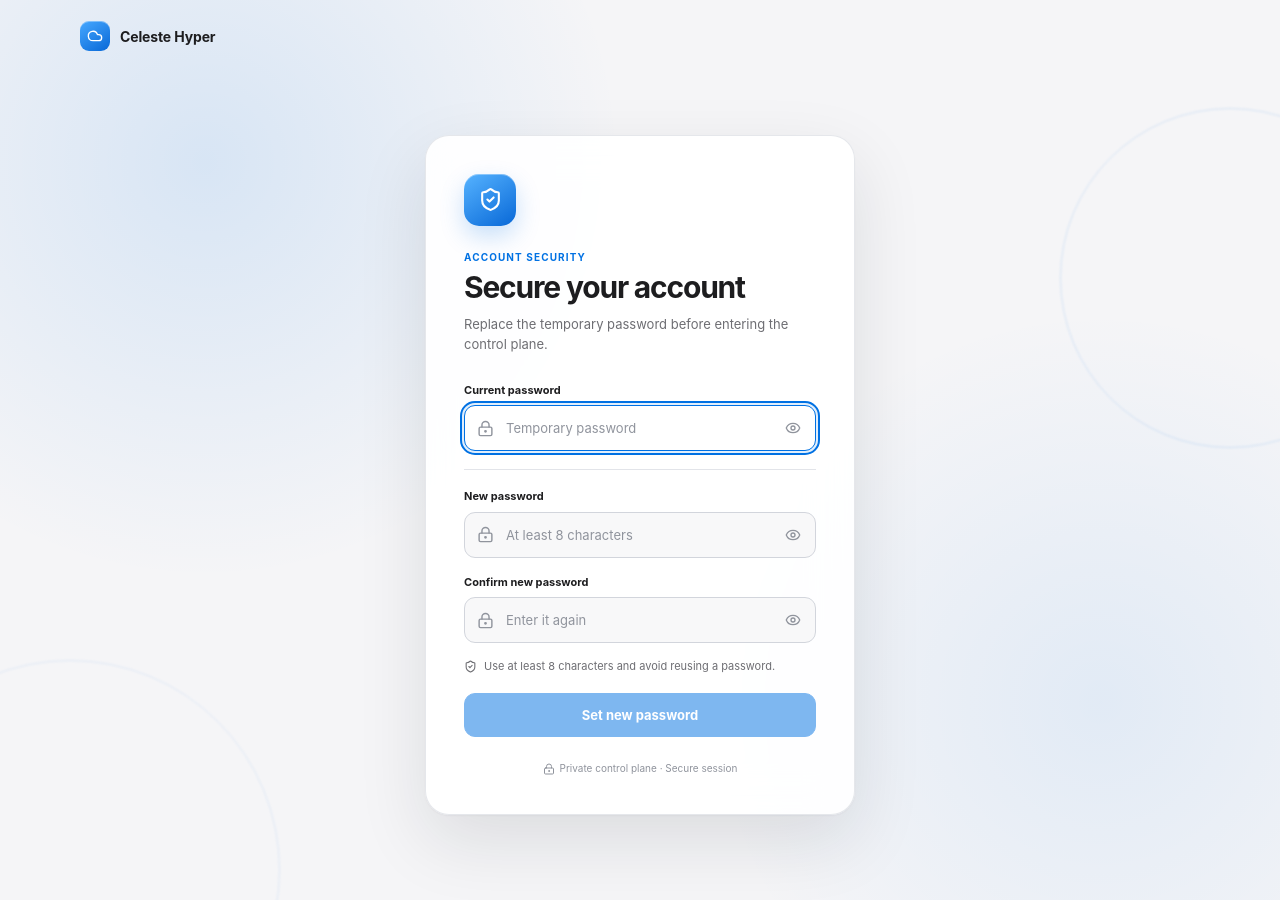
Test: ChangePassword › shows the error when the change is rejected
The image size is (1280, 900).
Type "wrong" into the password field labelled "Current password".
click(640, 428); type("wrong")  # box x1=464 y1=405 x2=816 y2=451
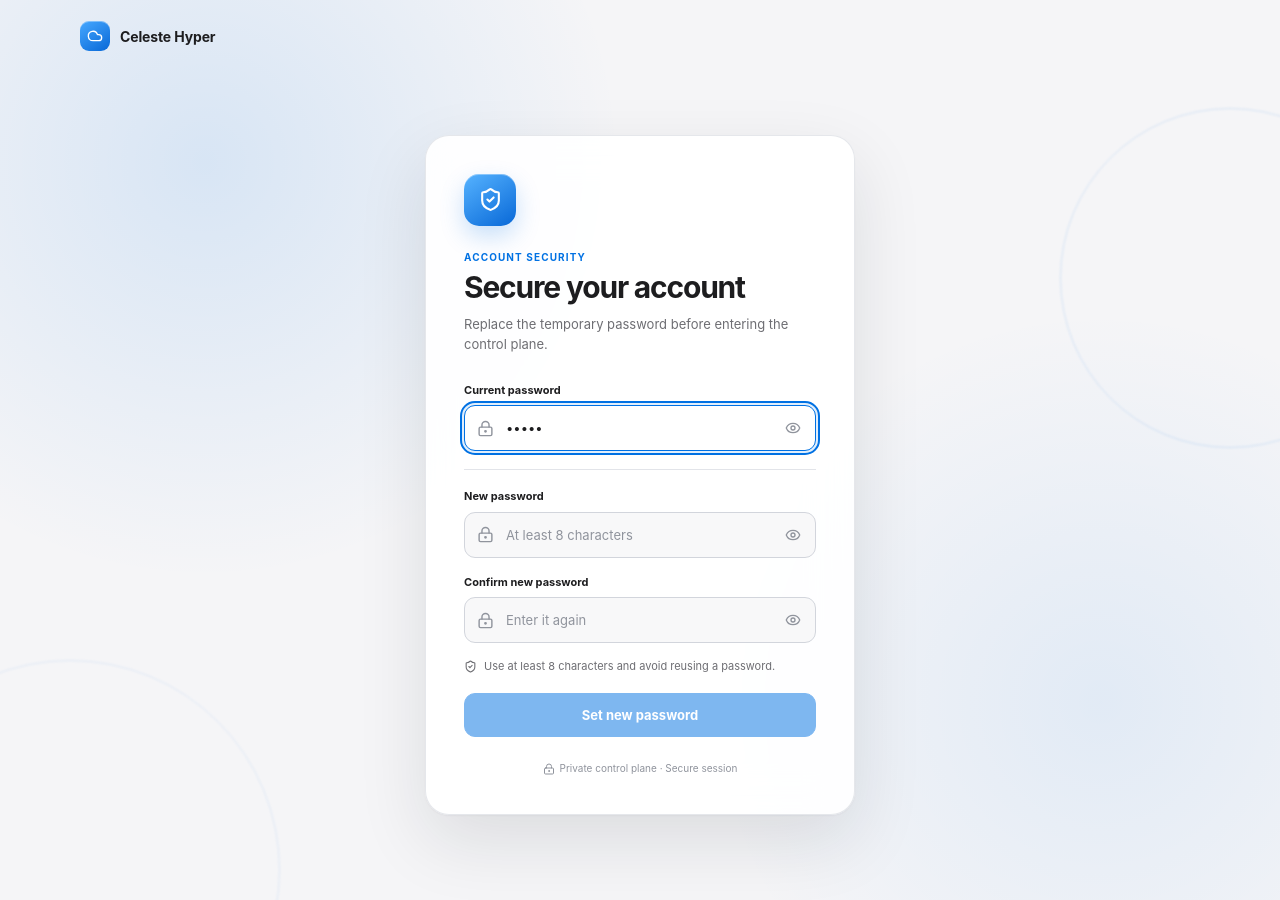
Type "a-new-strong-pw" into the password field labelled "New password".
click(640, 535); type("a-new-strong-pw")  # box x1=464 y1=512 x2=816 y2=558
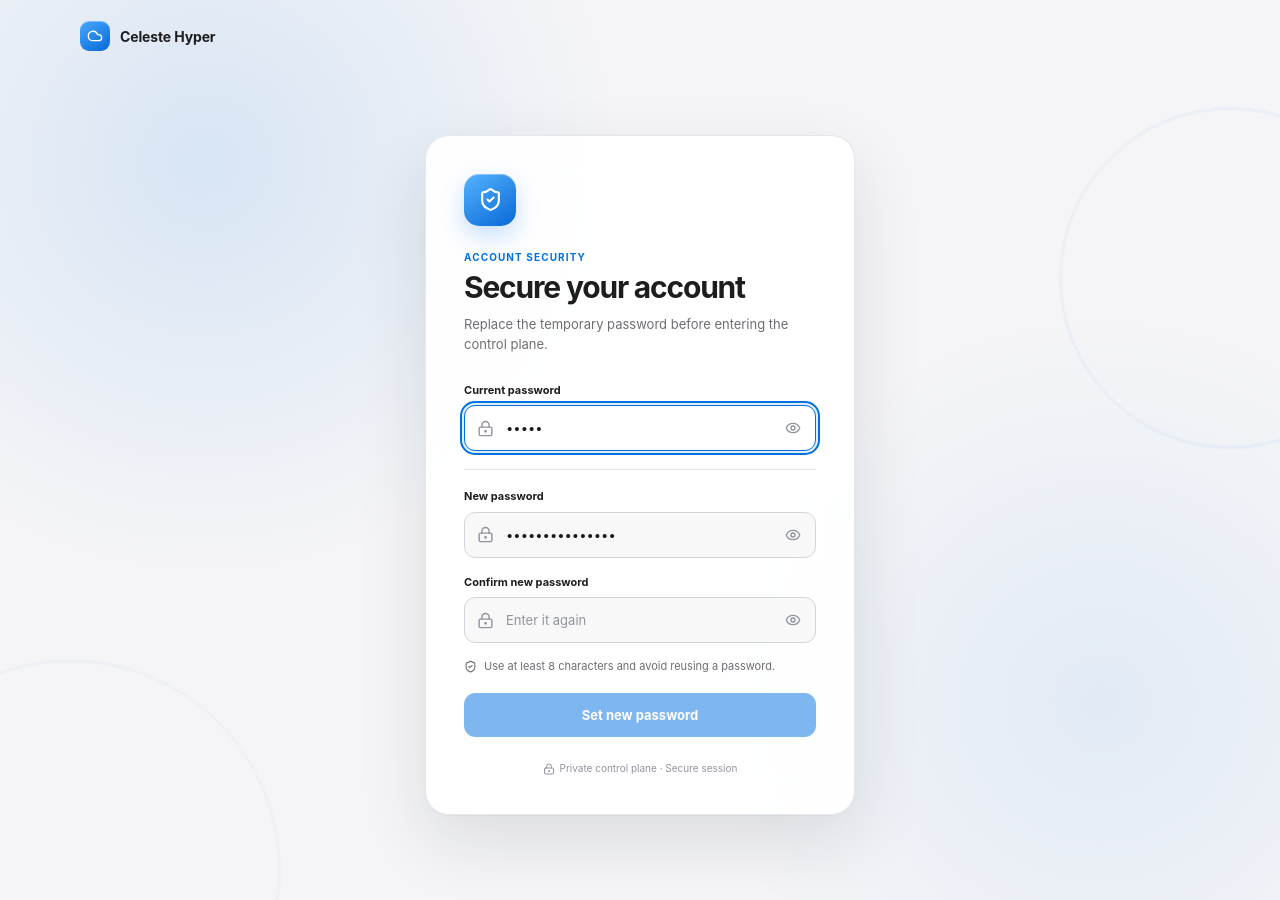
Type "a-new-strong-pw" into the password field labelled "Confirm new password".
click(640, 620); type("a-new-strong-pw")  # box x1=464 y1=597 x2=816 y2=643
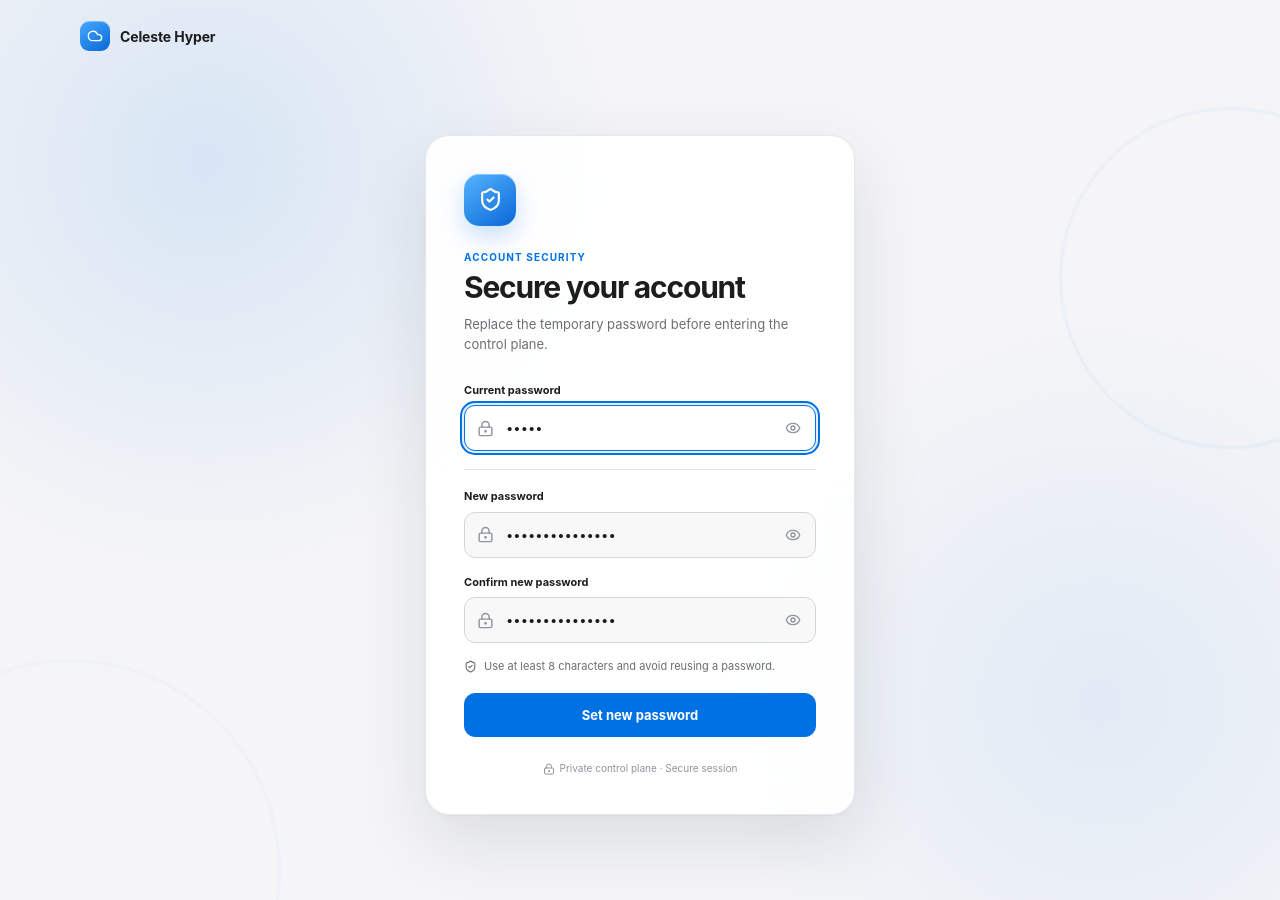
Click the button "Set new password".
click(640, 715)  # box x1=464 y1=693 x2=816 y2=737
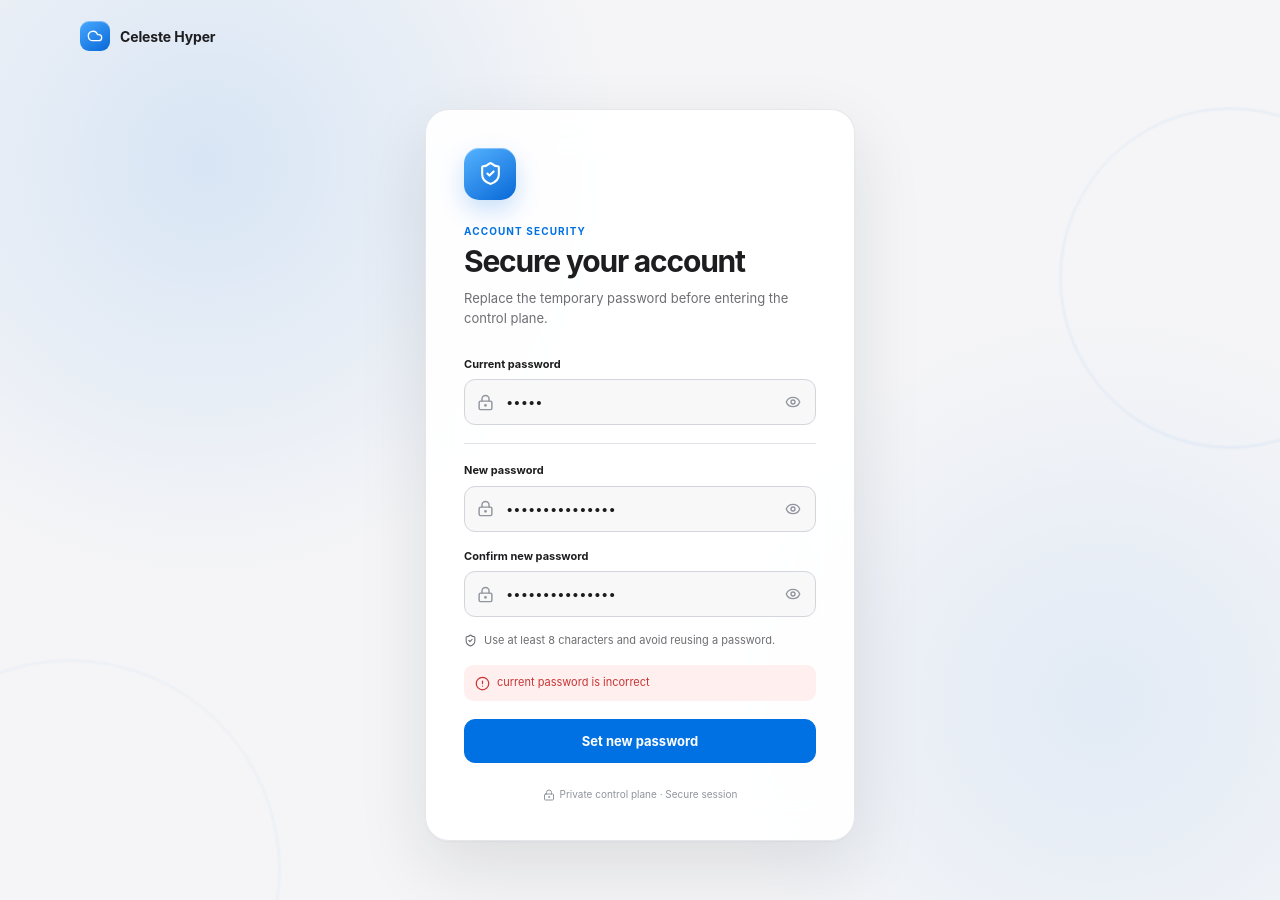
Expected: the message reads "current password is incorrect", x1=497 y1=675 x2=650 y2=689
